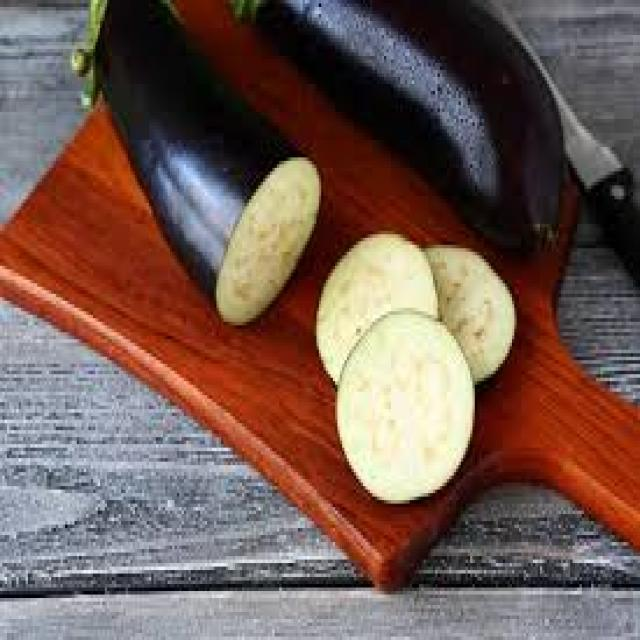eggplant: (84, 0, 340, 371), (252, 0, 574, 246), (300, 199, 528, 537)
